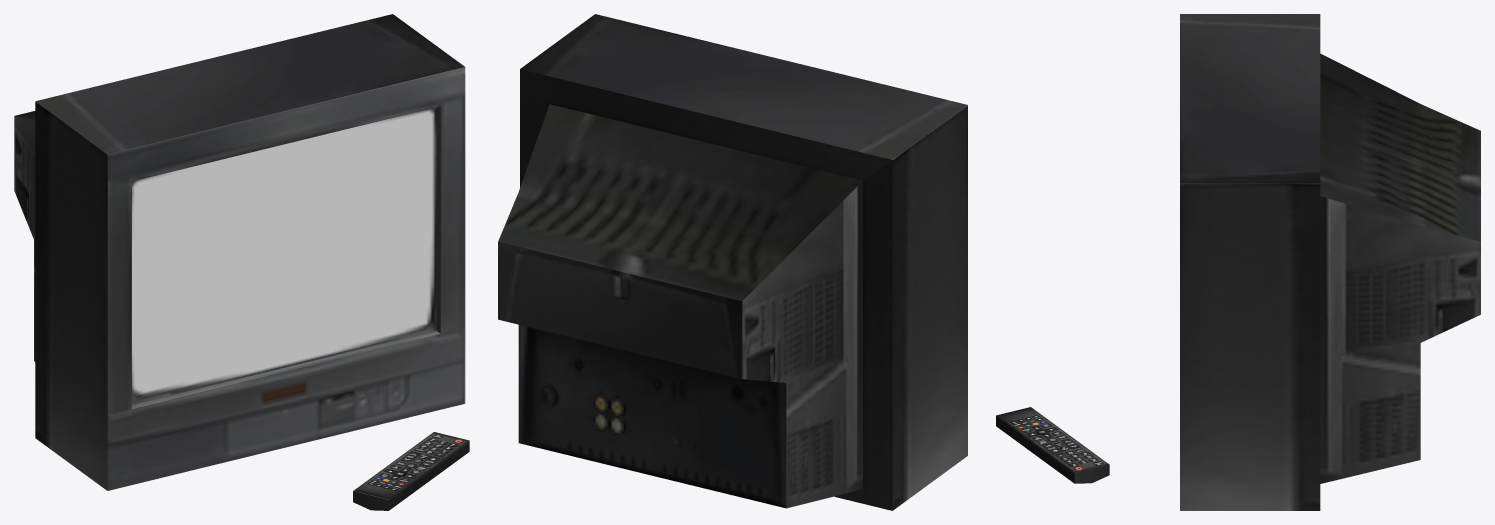
The picture shows the model from 3 angles, left to right: view 1: azimuth 30°, elevation 25°; view 2: azimuth 150°, elevation 25°; view 3: azimuth 270°, elevation 25°; orthographic projection. The views are drawn at different scales.
Parts seen in each view (by area): view 1: TVCRT, TVRemote; view 2: TVCRT; view 3: TVCRT, TVRemote.
Part boxes in pixels (x1,y1,x2,y2): TVCRT: (14, 14, 465, 490); TVRemote: (353, 432, 469, 510); TVCRT: (498, 14, 967, 510); TVCRT: (1180, 14, 1480, 510); TVRemote: (996, 407, 1109, 483).
Bounding box in the file's own units: 60 × 54 × 72.48.
1 material, 1 textured.
